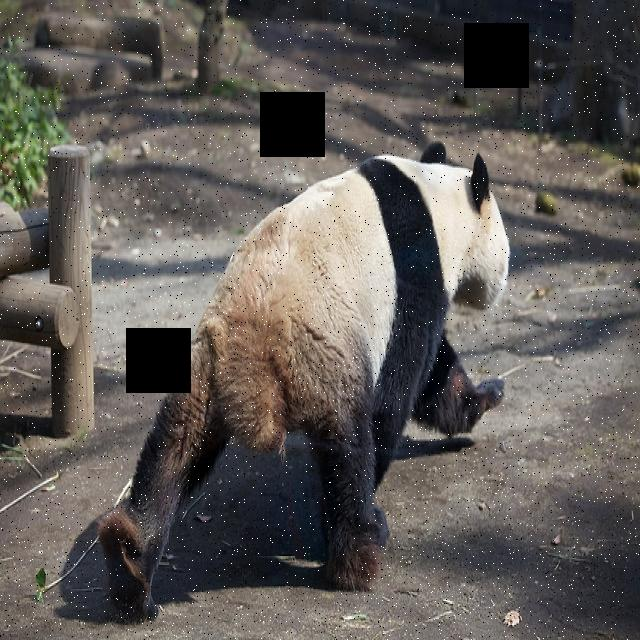Bear: (83, 113, 535, 612)
